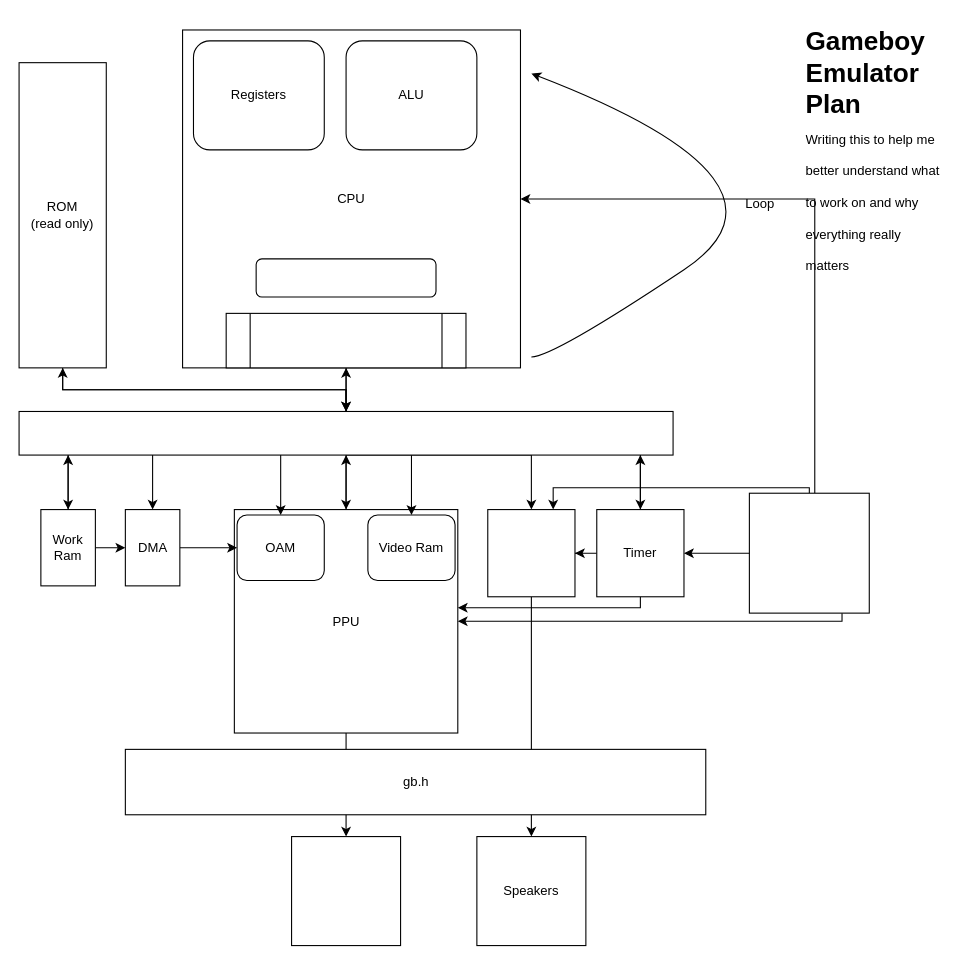
Image size: 965x965. Some labels were removed from this diagram. Each missing label, with the centre of its shape:
"APU" belongs at point 531,552.
"Clock" belongs at point 808,552.
"Decoder/interpreter" belongs at point 345,277.
"Display" belongs at point 345,890.
"Fetch, Decode, Execute" belongs at point 345,340.
"Memory bus" belongs at point 345,432.
